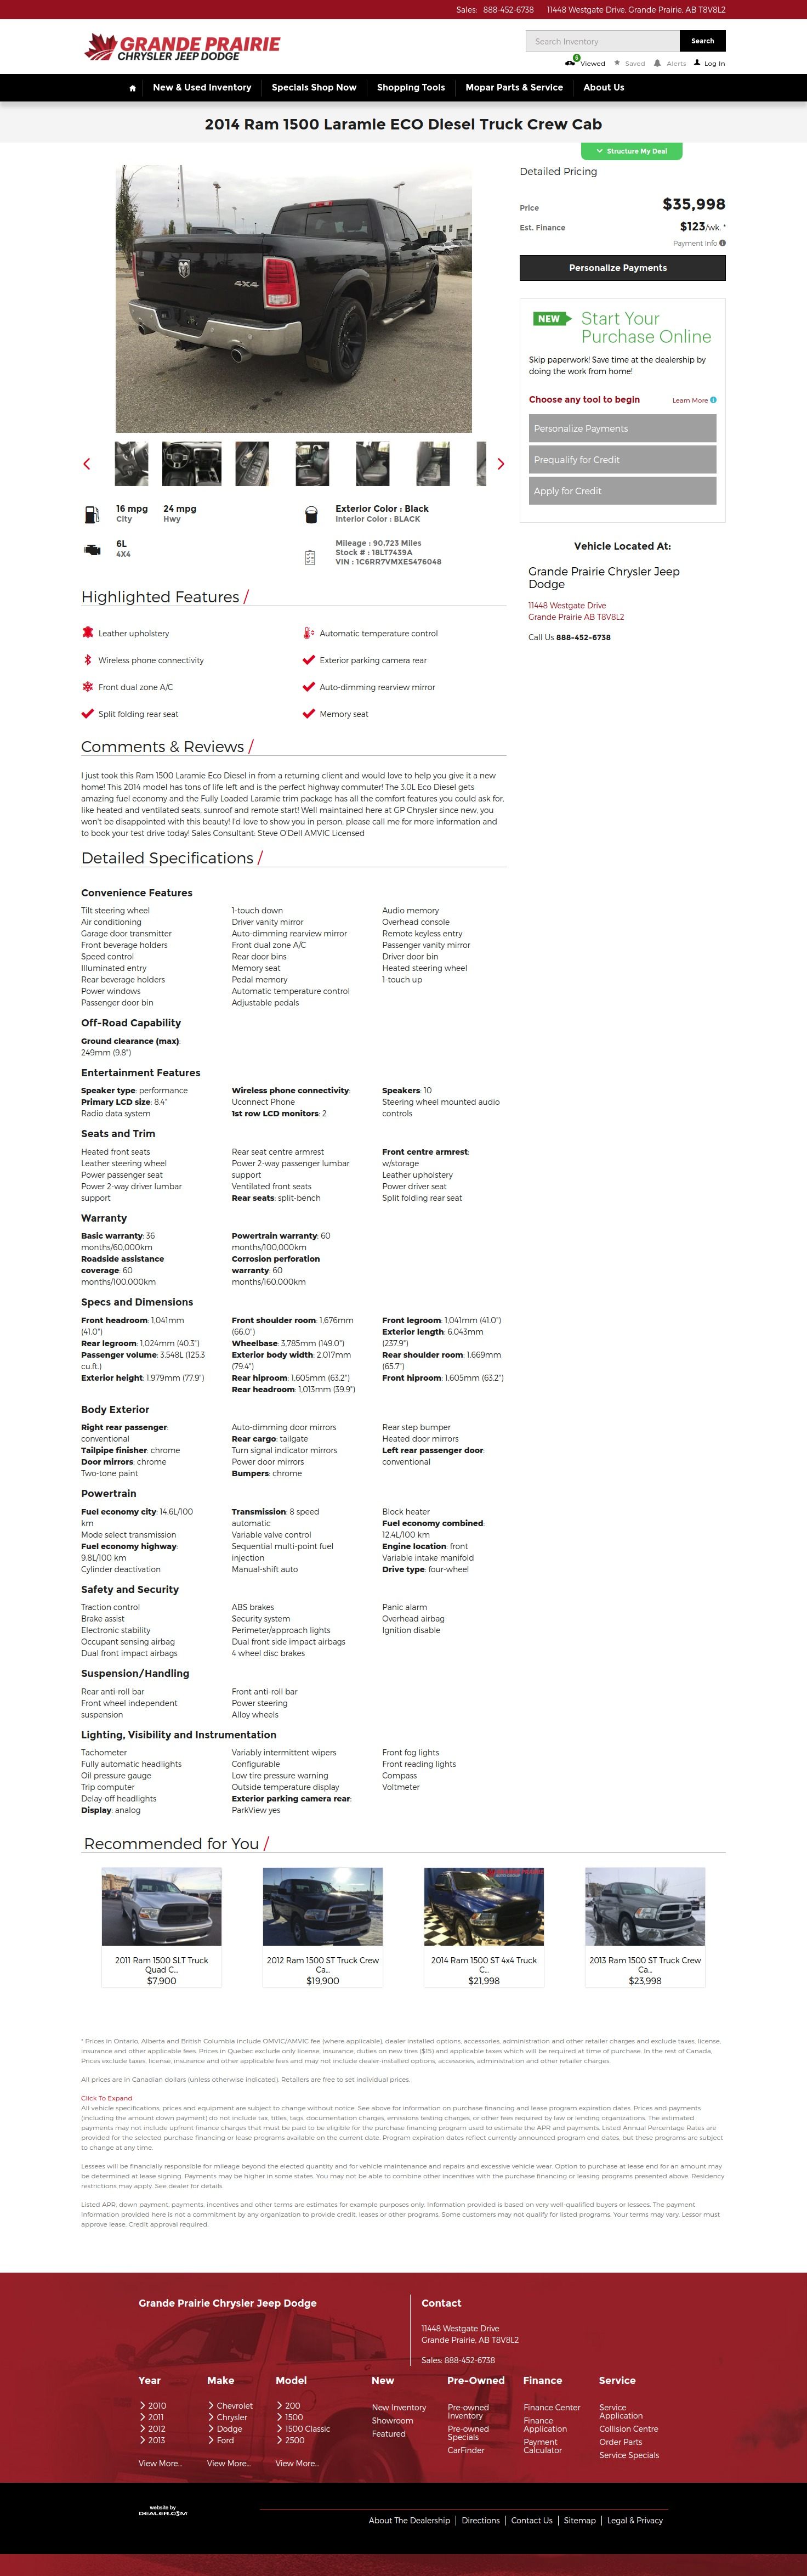car: (497, 458, 505, 470)
